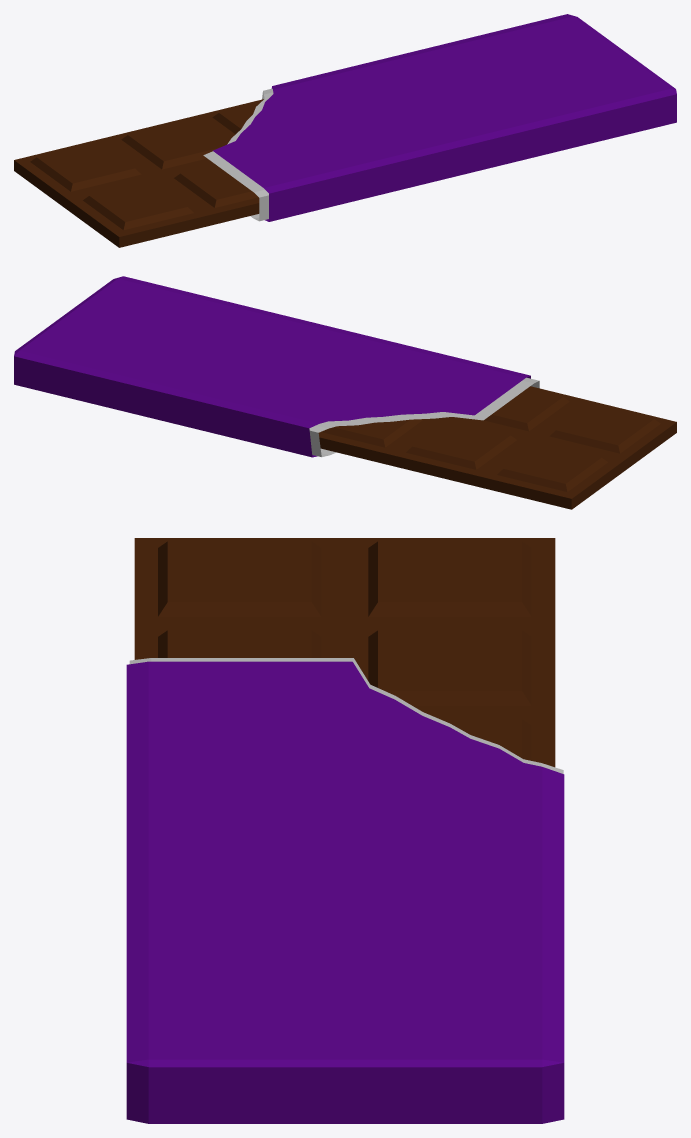
The model's file is chocolate.fbx.
3 renders of one model, top to bottom at view 1: azimuth 30°, elevation 25°; view 2: azimuth 150°, elevation 25°; view 3: azimuth 270°, elevation 25°, orthographic. The views are drawn at different scales.
Visible parts, largest first — view 1: Cube.001, Cube, Cube.002; view 2: Cube.001, Cube, Cube.002; view 3: Cube.001, Cube, Cube.002.
Boxes of the visible parts, <box> form: Cube.001: <box>213,14,676,221</box>; Cube: <box>14,99,263,247</box>; Cube.002: <box>203,88,273,221</box>; Cube.001: <box>14,276,530,457</box>; Cube: <box>318,386,676,509</box>; Cube.002: <box>309,377,539,457</box>; Cube.001: <box>126,661,564,1123</box>; Cube: <box>134,538,555,767</box>; Cube.002: <box>129,658,563,773</box>.
Bounding box in the file's own units: 1230 × 66.18 × 416.
